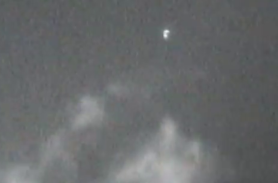Target: (163, 31, 168, 38)
